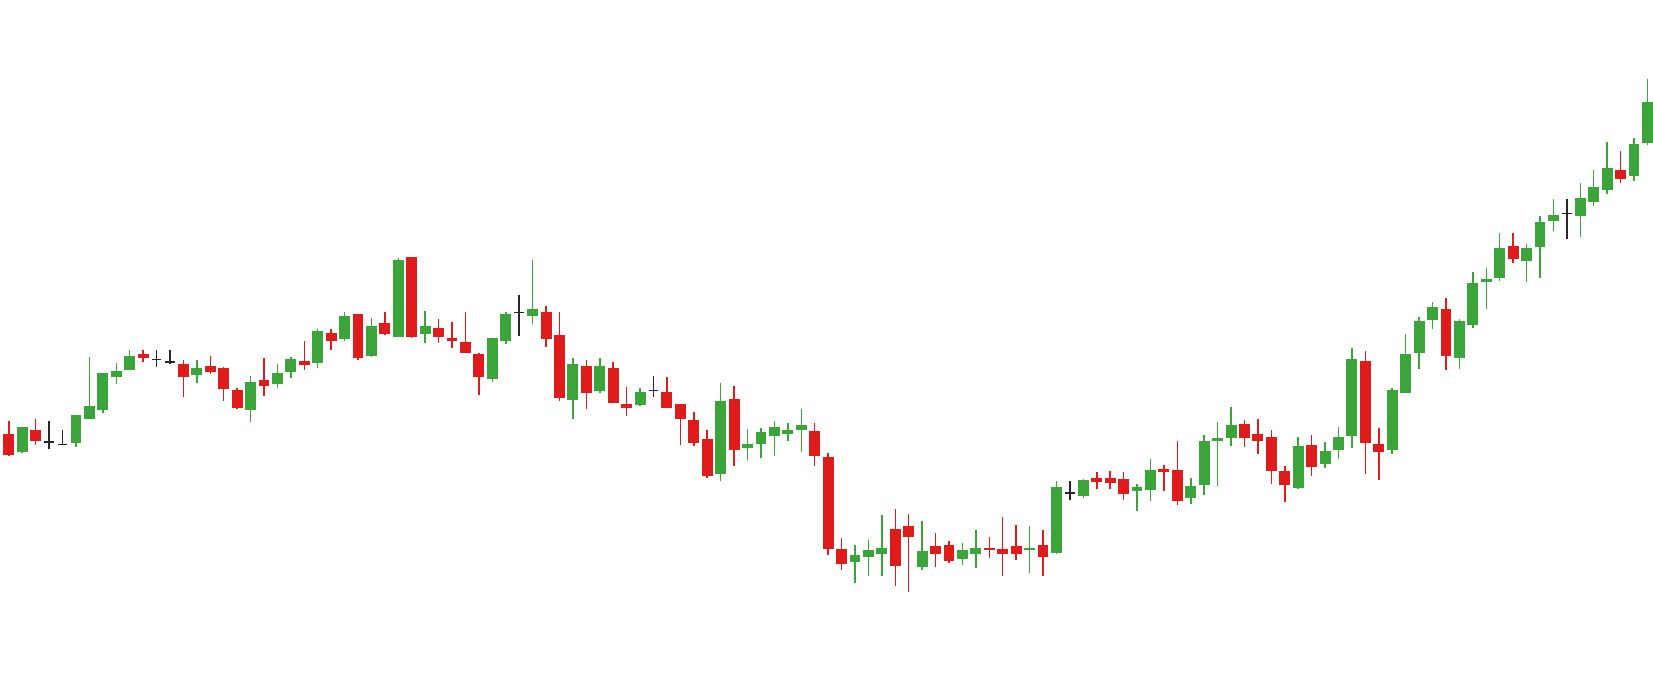buy: (1208, 439, 1307, 504)
sell: (458, 259, 540, 347)
